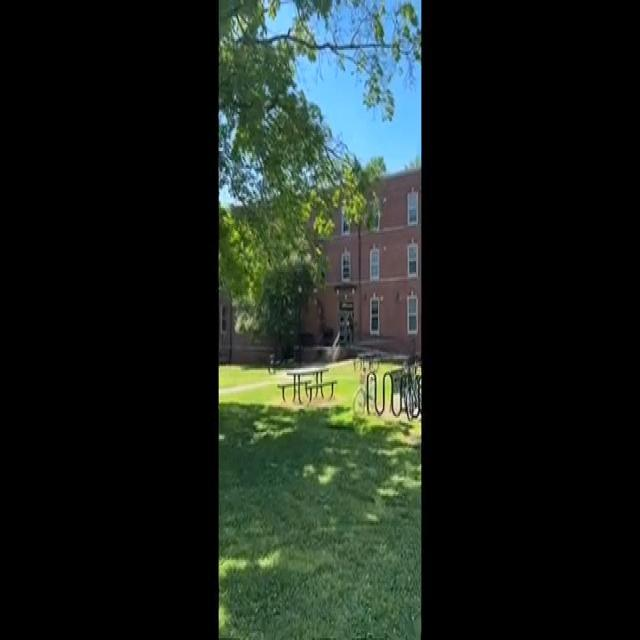drone: (298, 299, 312, 328)
